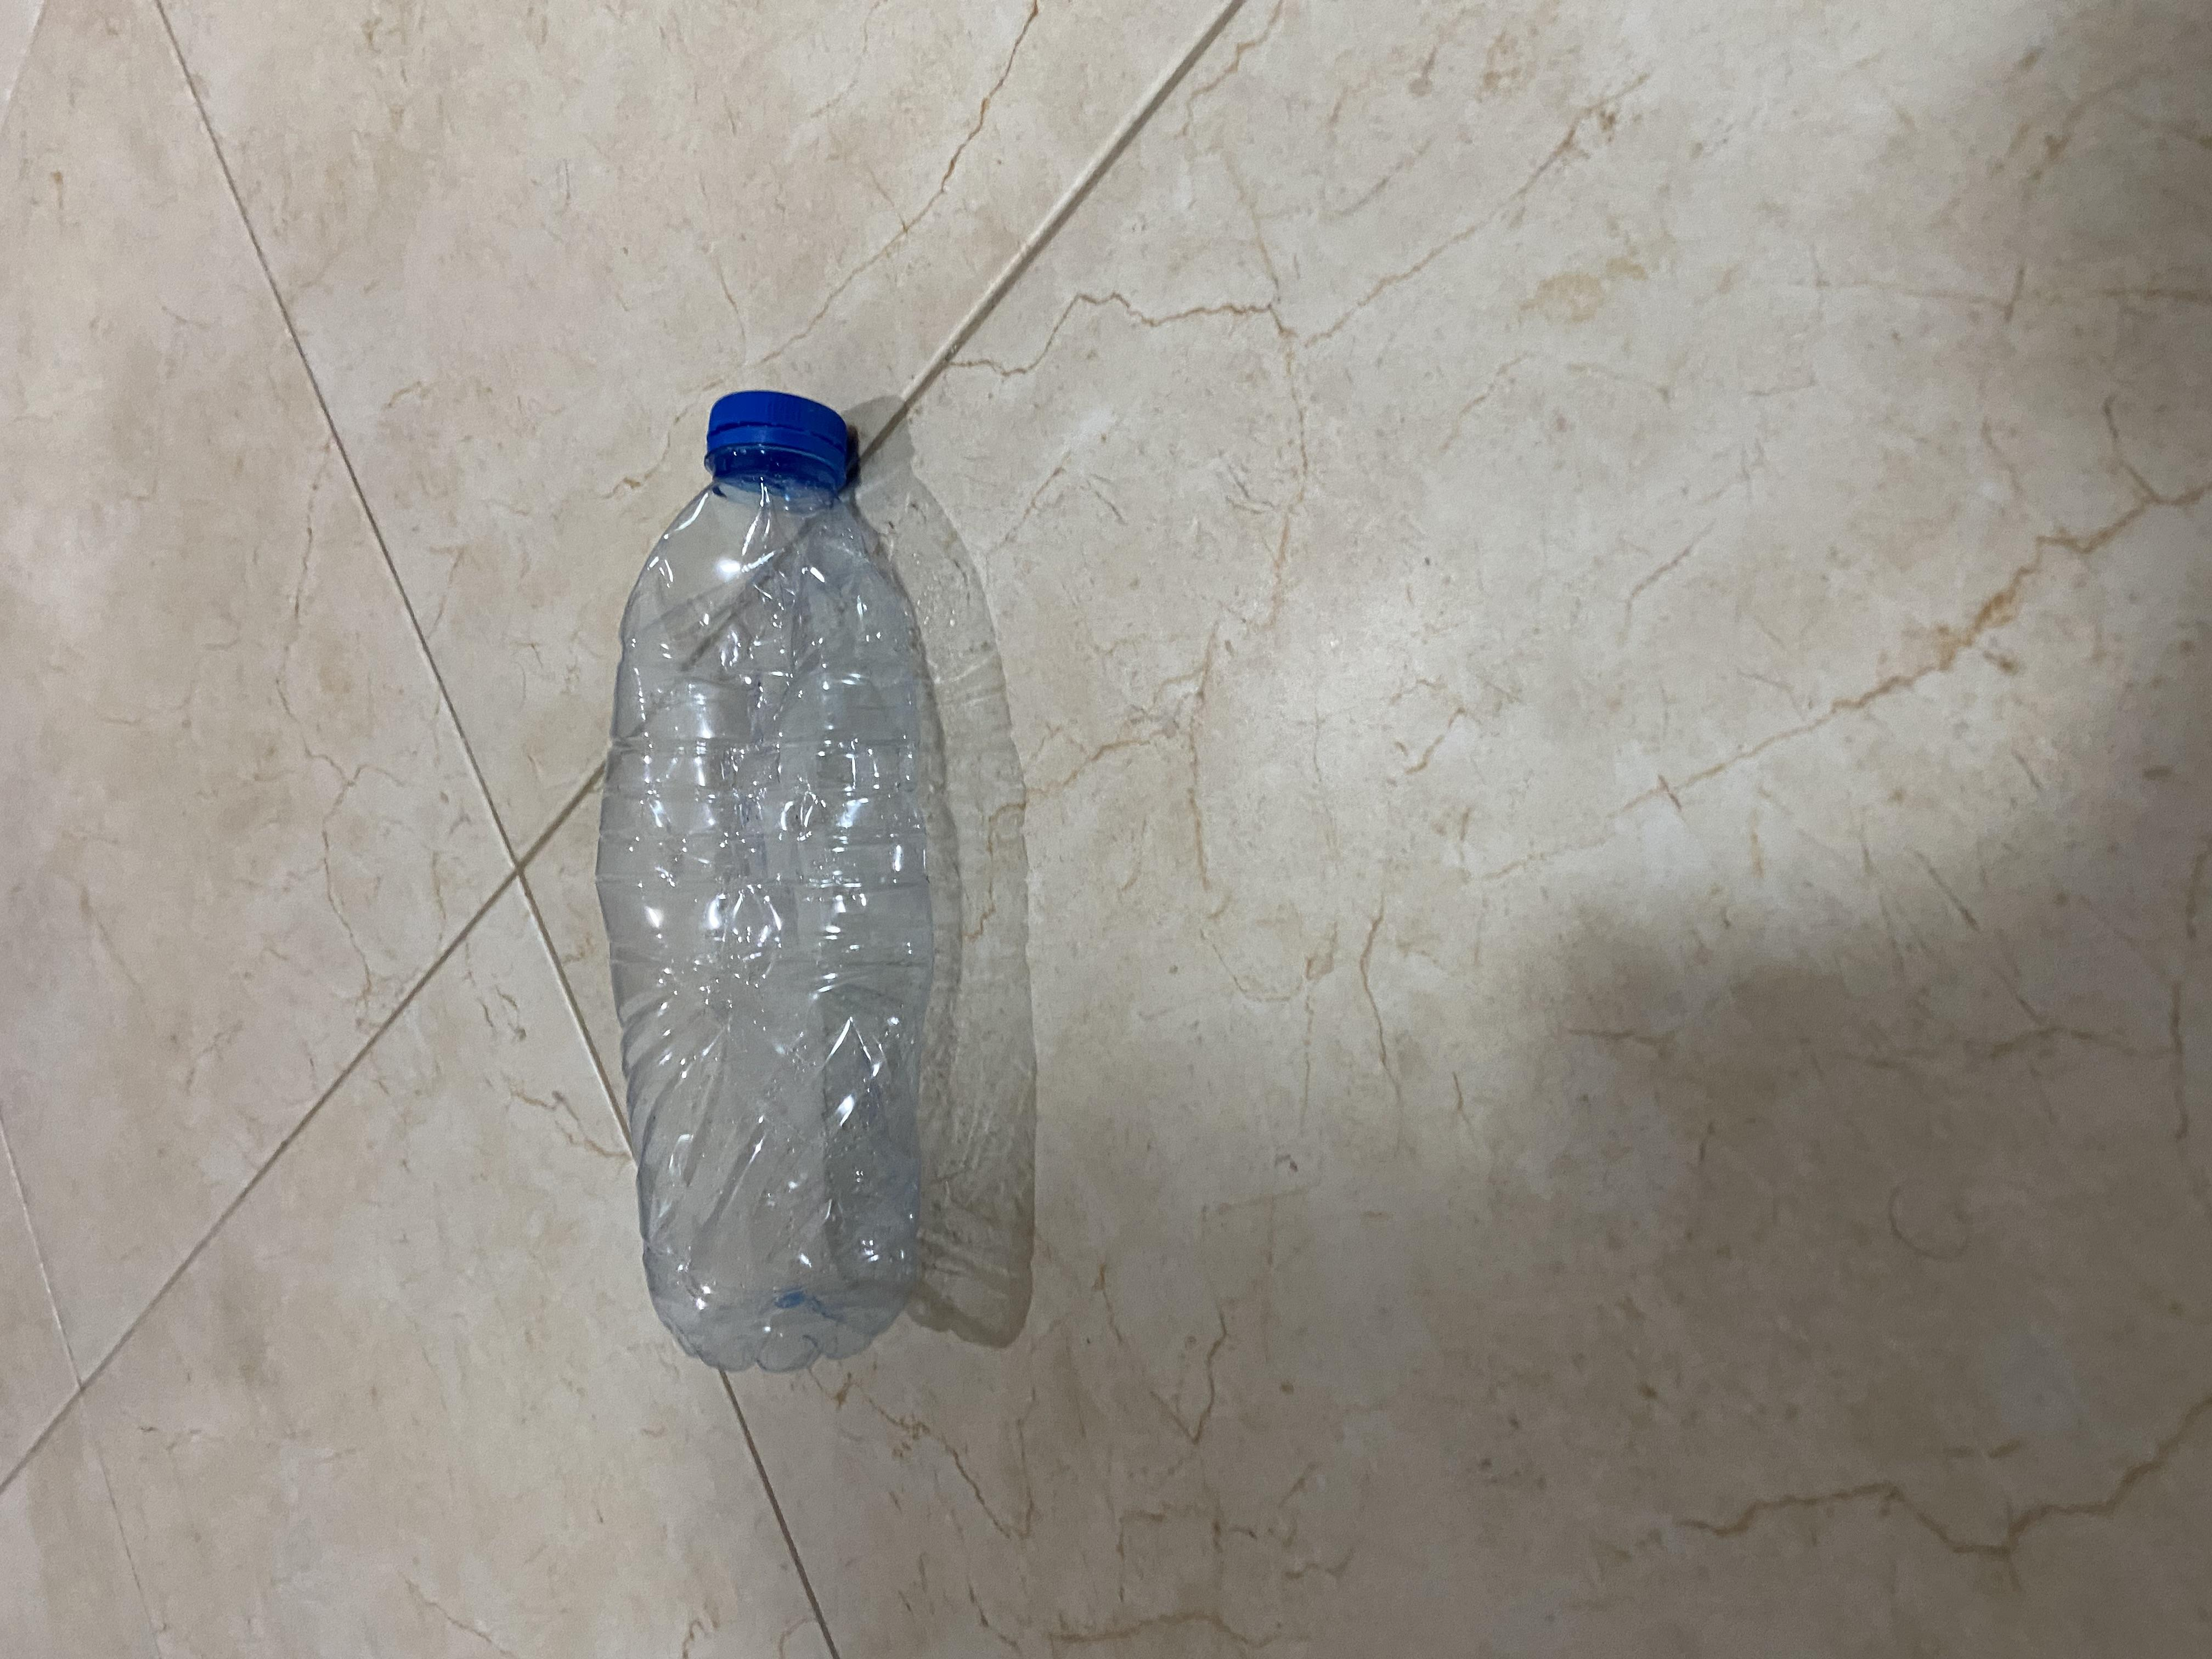bottle: (361, 448, 1712, 720)
